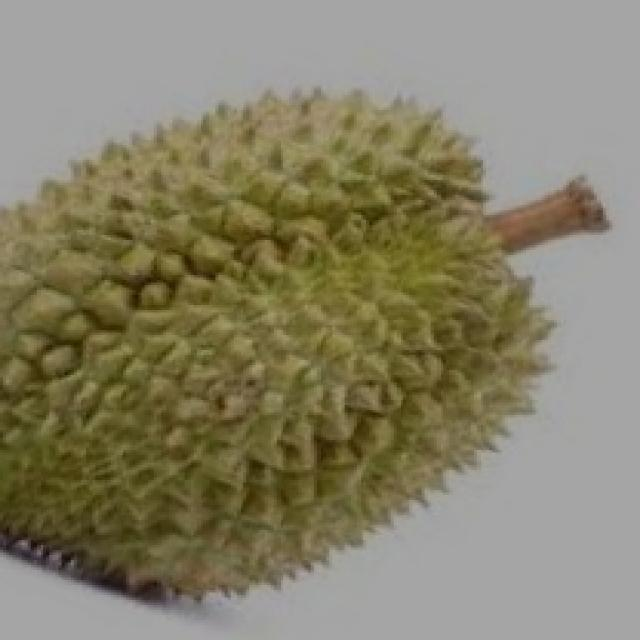fruit: (190, 197, 628, 635), (3, 252, 375, 638)
